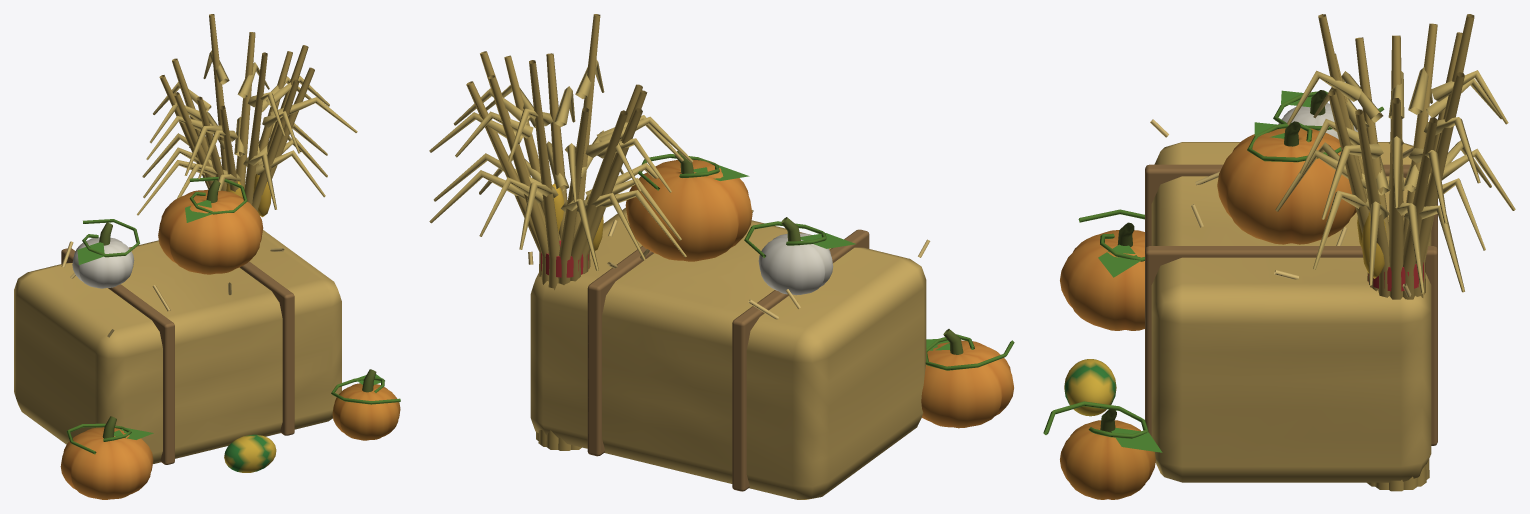
File: harvest_stack.glb
3 views of the same model, side by side, from view 1: azimuth 30°, elevation 25°; view 2: azimuth 150°, elevation 25°; view 3: azimuth 270°, elevation 25° (orthographic). The views are drawn at different scales.
Parts seen in each view (by area): view 1: harvest_stack_main; view 2: harvest_stack_main; view 3: harvest_stack_main.
Boxes of the visible parts, box(x1,y1,x2,y2) form: harvest_stack_main: box(14, 14, 400, 499); harvest_stack_main: box(429, 14, 1014, 499); harvest_stack_main: box(1043, 14, 1515, 499).
Size of the model in its own units: 1.35 by 1.17 by 1.08.
